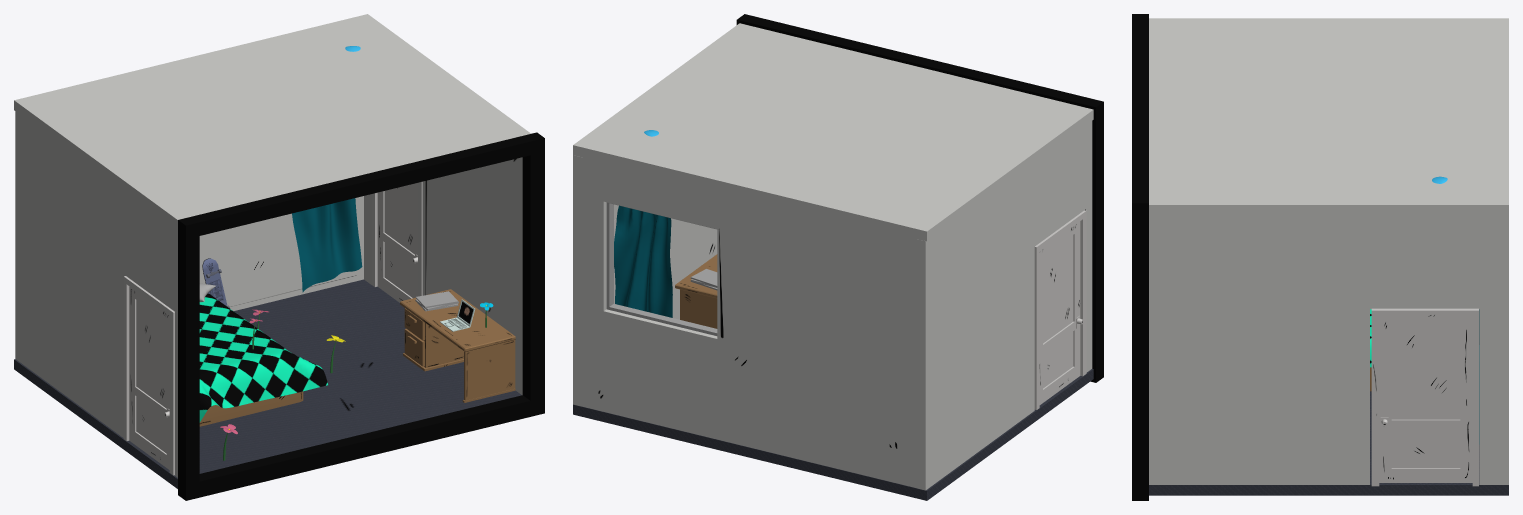
Rendered from Room.fbx.
3 renders of one model, left to right at view 1: azimuth 30°, elevation 25°; view 2: azimuth 150°, elevation 25°; view 3: azimuth 270°, elevation 25°, orthographic. The views are drawn at different scales.
Parts seen in each view (by area): view 1: Ceiling, LeftWall, OutsideFrame, Floor, RightWall, Door2 (×2), Blanket, BackgroundWall, Desk, Curtain, Door3, Bed (+2 smaller); view 2: BackgroundWall, Ceiling, LeftWall, OutsideFrame, Door2, Floor, Curtain, RightWall, Door3, Desk, windowFrame; view 3: RightWall, Ceiling, Door2, OutsideFrame, Floor, Door4.
Boxes of the visible parts, <box> form: Ceiling: <box>14,14,530,229</box>; LeftWall: <box>15,111,177,477</box>; OutsideFrame: <box>178,132,544,500</box>; Floor: <box>14,279,521,488</box>; RightWall: <box>364,157,522,395</box>; Door2 (×2): <box>129,183,417,469</box>; Blanket: <box>199,293,327,422</box>; BackgroundWall: <box>199,196,363,311</box>; Desk: <box>400,289,515,402</box>; Curtain: <box>292,198,362,292</box>; Door3: <box>123,276,174,475</box>; Bed: <box>199,391,303,426</box>; BackgroundWall: <box>582,157,916,487</box>; Ceiling: <box>573,23,1093,241</box>; LeftWall: <box>916,121,1092,490</box>; OutsideFrame: <box>736,14,1103,382</box>; Door2: <box>1039,221,1080,404</box>; Floor: <box>573,368,1093,500</box>; Curtain: <box>614,205,672,317</box>; RightWall: <box>573,155,717,406</box>; Door3: <box>1034,210,1086,409</box>; Desk: <box>675,254,717,328</box>; windowFrame: <box>606,202,717,335</box>; RightWall: <box>1149,215,1508,484</box>; Ceiling: <box>1149,18,1508,215</box>; Door2: <box>1379,316,1472,482</box>; OutsideFrame: <box>1132,14,1148,500</box>; Floor: <box>1149,391,1508,495</box>; Door4: <box>1371,308,1478,486</box>.
Bounding box in the file's own units: 288 × 210 × 241.
30 materials, 17 textured.
